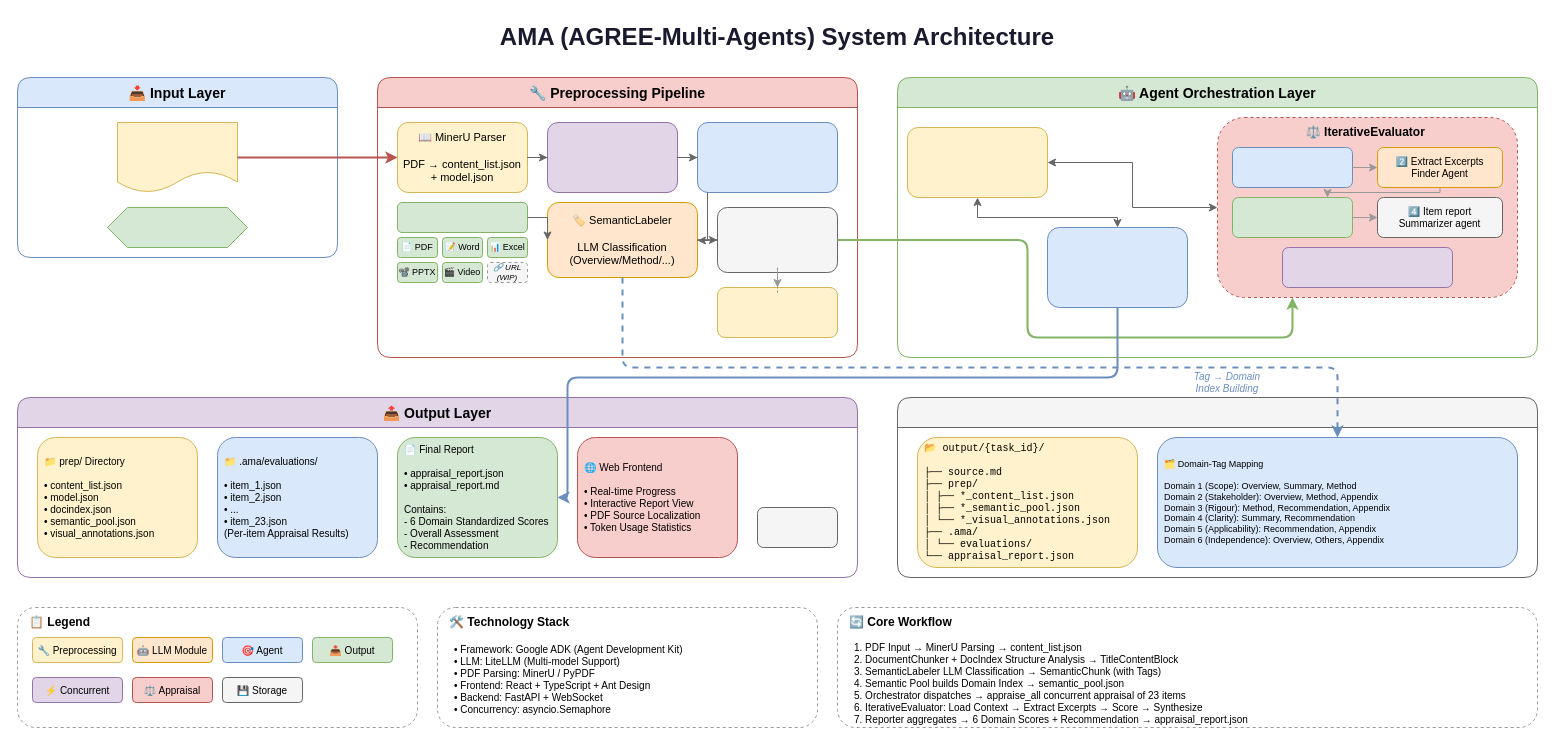
Some shapes in this 1555 by 745 pixel diagram are drawn without their labels. The shapes that lost their labels are listed below. From the top down, each one's box as (x1, y1, x2, y2) in pixels, then its label:
(116, 122, 238, 192): 📄 PDF Guideline with Appendices
(546, 122, 678, 192): 📊 DocIndex Build Document Tree cluster_level Analysis
(696, 122, 838, 192): 📦 DocumentChunker Title-Content Segmentation Section Path Computation
(906, 126, 1048, 198): 🎯 Orchestrator Intelligent Coordinator (LlmAgent + AgentTool)
(1232, 146, 1352, 188): 1️⃣ Load Domain Context load_context_for_skill
(106, 206, 248, 248): ⚙️ Skills Config (23 AGREE-II Items)
(396, 202, 528, 232): 🔍 Explorer Agent
(1232, 196, 1352, 238): 3️⃣ Dynamic Scoring Appraiser Agent
(716, 206, 838, 272): 🗃️ Semantic Pool Context Pool Builder Domain-Tag Mapping
(1046, 226, 1188, 308): 📝 Reporter Aggregate Results Calculate Domain Scores Generate Final Report
(1282, 246, 1452, 288): ⚡ appraise_all Concurrent Batch Appraisal (asyncio.Semaphore)
(716, 286, 838, 338): 🖼️ Visual Annotations Source Highlighting
(896, 396, 1538, 578): 💾 Data Storage
(756, 506, 838, 548): 📊 token_usage.json
